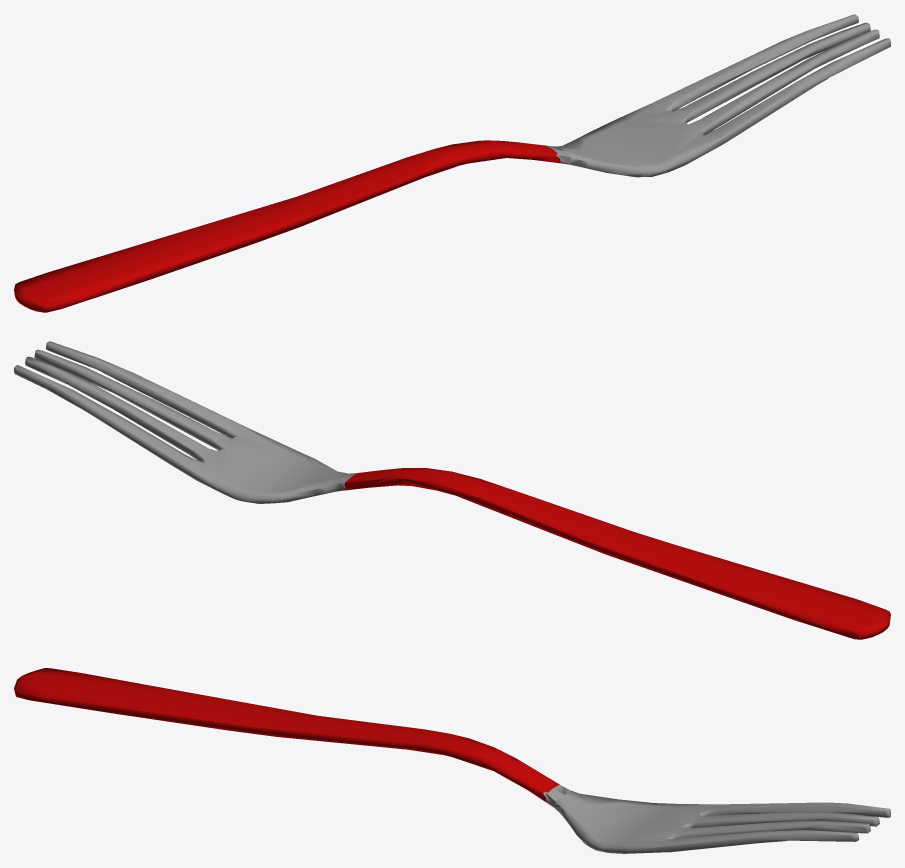
File: Fork.FBX
3 views of the same model, one above another, from view 1: azimuth 30°, elevation 25°; view 2: azimuth 150°, elevation 25°; view 3: azimuth 330°, elevation 25° (orthographic).
Parts seen in each view (by area): view 1: fork; view 2: fork; view 3: fork.
Part boxes in pixels (bbox=[...]): fork: bbox=[14, 14, 890, 312]; fork: bbox=[14, 341, 890, 639]; fork: bbox=[14, 668, 890, 853].
Bounding box in the file's own units: 17.15 × 1.35 × 2.11.
2 materials, 1 textured.
